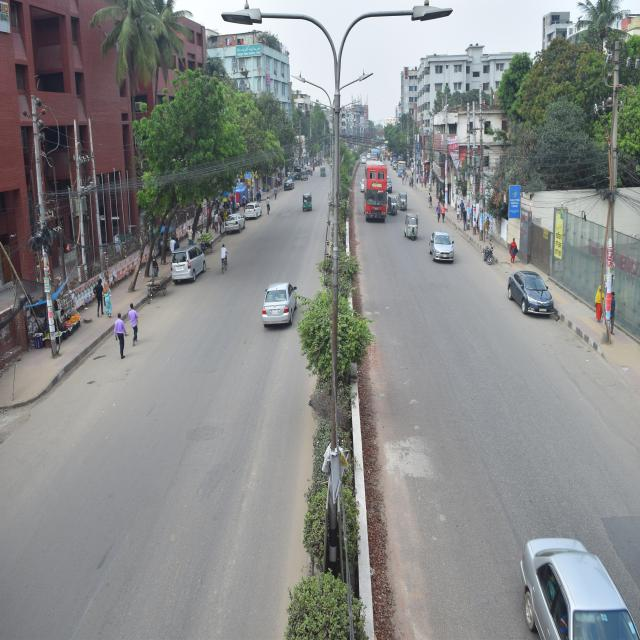bus: (363, 156, 389, 236)
car: (508, 523, 621, 640), (504, 263, 560, 320), (255, 266, 297, 338), (424, 222, 457, 270), (223, 209, 247, 241), (236, 193, 264, 219), (284, 177, 296, 194)
microbus: (167, 239, 210, 289)
motorbike: (479, 235, 502, 277)
